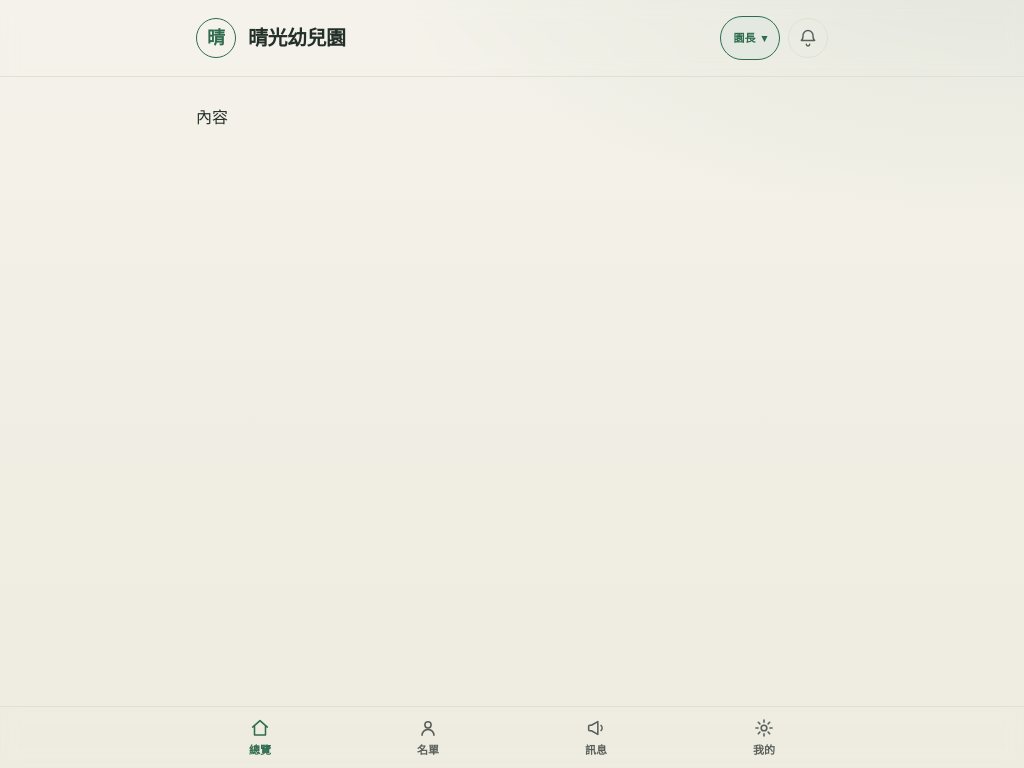
Scenario: PersonaShell 的三套殼 › 四種身分都齊的人，四個選項都切得到
Step 1. Click the button with aria-label "目前以園長身分" → x=750, y=38, box x1=720 y1=16 x2=780 y2=60
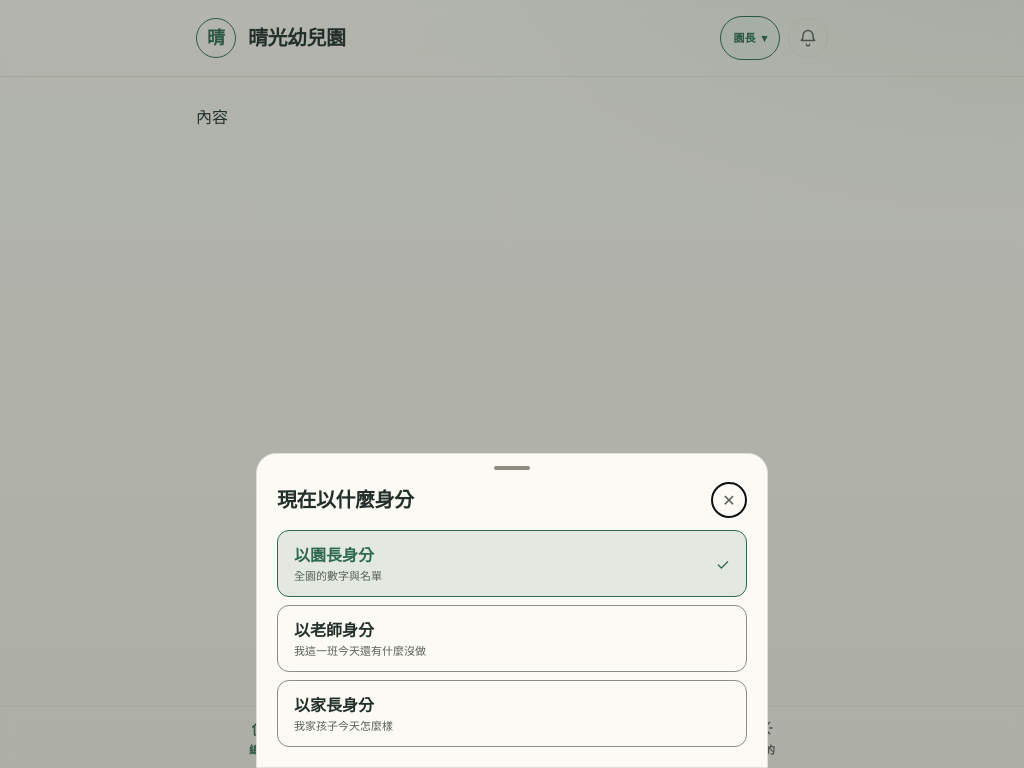
Expected: the button "以園長身分 全園的數字與名單 ✓" is shown, x1=277 y1=530 x2=747 y2=597
Expected: the button "以老師身分 我這一班今天還有什麼沒做" is shown, x1=277 y1=605 x2=747 y2=672
Expected: the button "以家長身分 我家孩子今天怎麼樣" is shown, x1=277 y1=680 x2=747 y2=747
